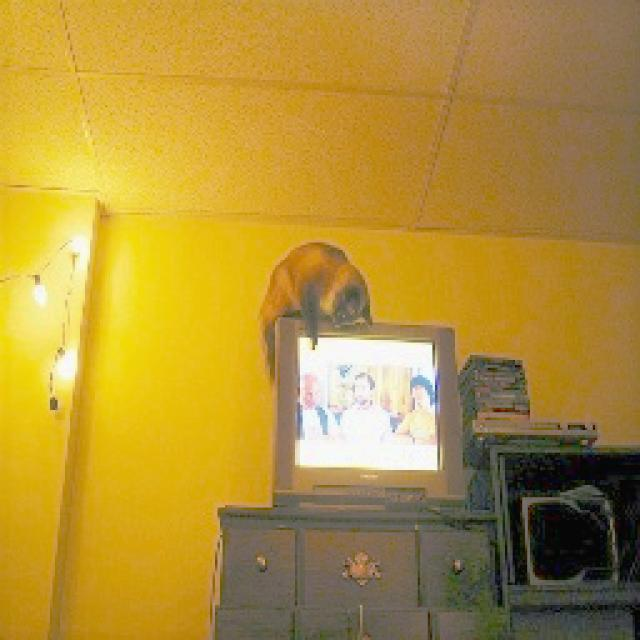cat: (259, 240, 377, 376)
